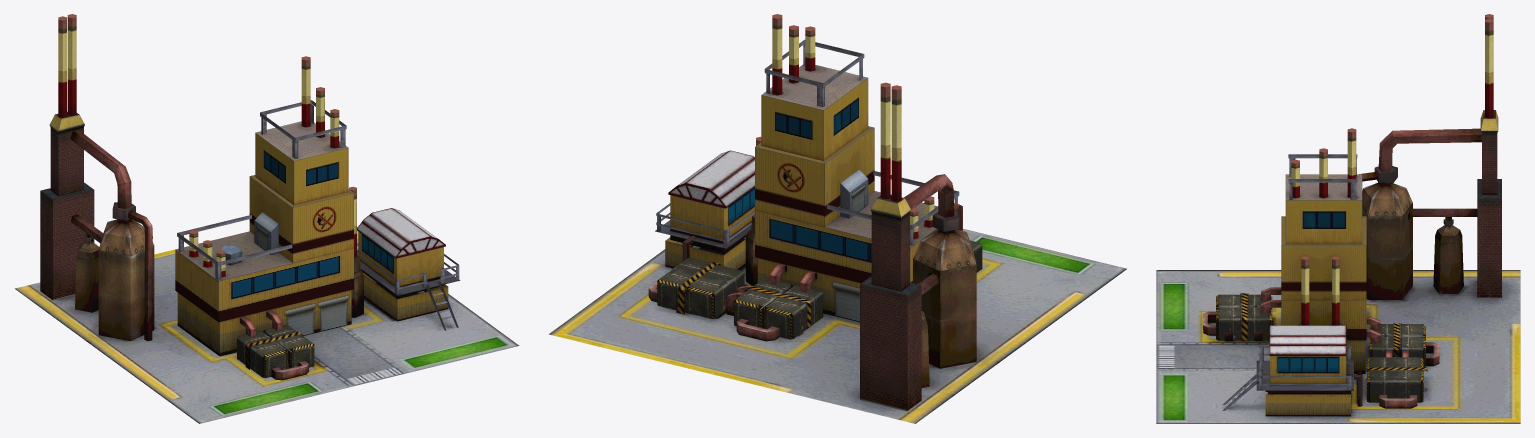
Rendered from power_station_01.obj.
The picture shows the model from 3 angles, left to right: view 1: azimuth 30°, elevation 25°; view 2: azimuth 150°, elevation 25°; view 3: azimuth 270°, elevation 25°; orthographic projection. The views are drawn at different scales.
Visible parts, largest first — view 1: gongchang03; view 2: gongchang03; view 3: gongchang03.
Part boxes in pixels (x1,y1,x2,y2): gongchang03: [15, 14, 519, 423]; gongchang03: [549, 14, 1126, 423]; gongchang03: [1156, 14, 1520, 423].
Size of the model in its own units: 5.08 by 4.15 by 5.08.
